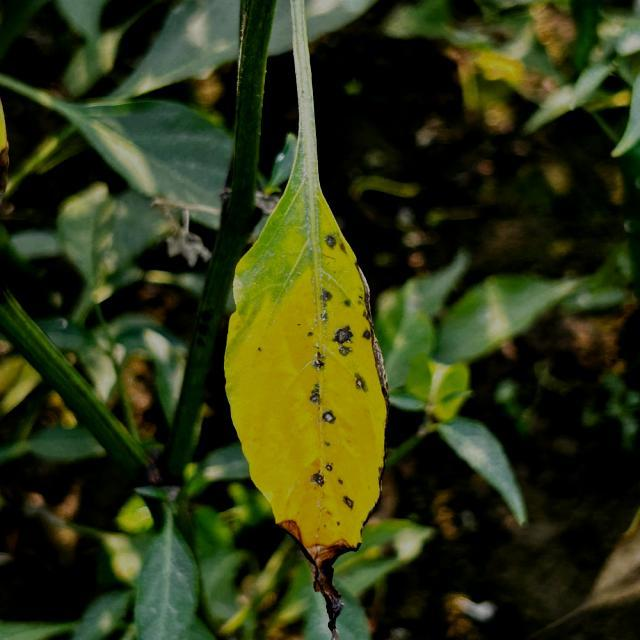Bercak Daun Serkospora: (223, 160, 394, 640)
